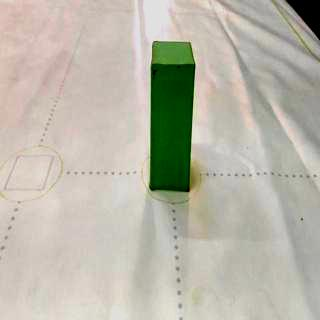greenbox: (148, 39, 198, 192)
